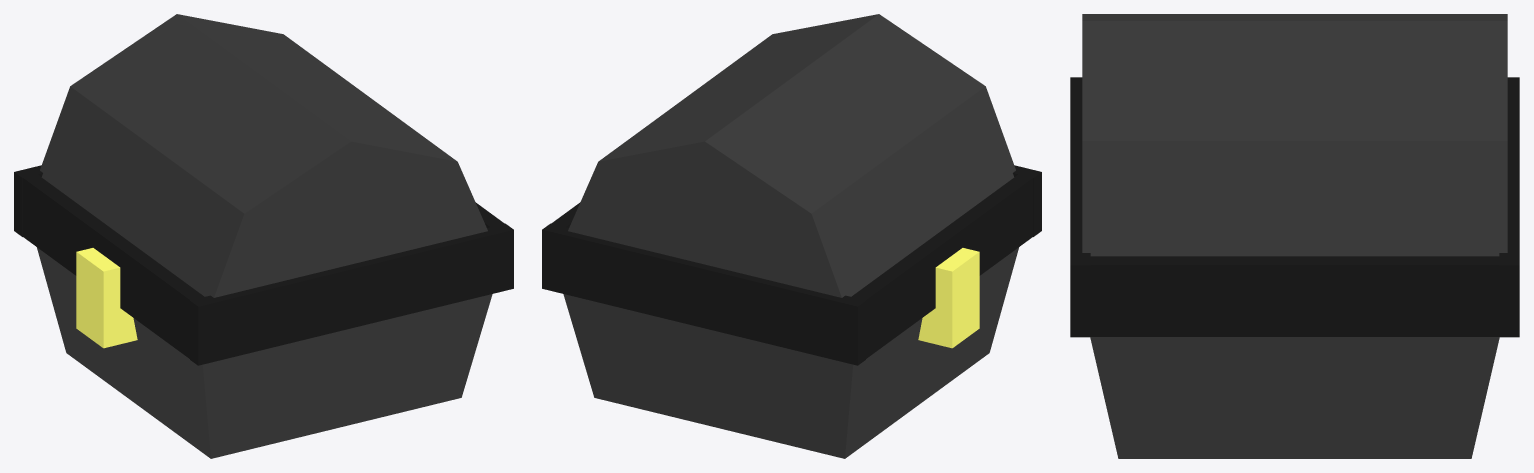
Rendered from Chest.glb.
3 renders of one model, left to right at view 1: azimuth 30°, elevation 25°; view 2: azimuth 150°, elevation 25°; view 3: azimuth 270°, elevation 25°, orthographic. The views are drawn at different scales.
Parts seen in each view (by area): view 1: Chest, Rim, Lock; view 2: Chest, Rim, Lock; view 3: Chest, Rim.
Part boxes in pixels (x1,y1,x2,y2): Chest: [37, 14, 492, 458]; Rim: [14, 165, 513, 365]; Lock: [76, 248, 137, 348]; Chest: [563, 14, 1018, 458]; Rim: [542, 165, 1041, 365]; Lock: [918, 248, 979, 348]; Chest: [1082, 14, 1507, 458]; Rim: [1070, 77, 1519, 337].
Size of the model in its own units: 1.55 by 1.33 by 1.49.
Materials: 3 (3 with a texture image).
